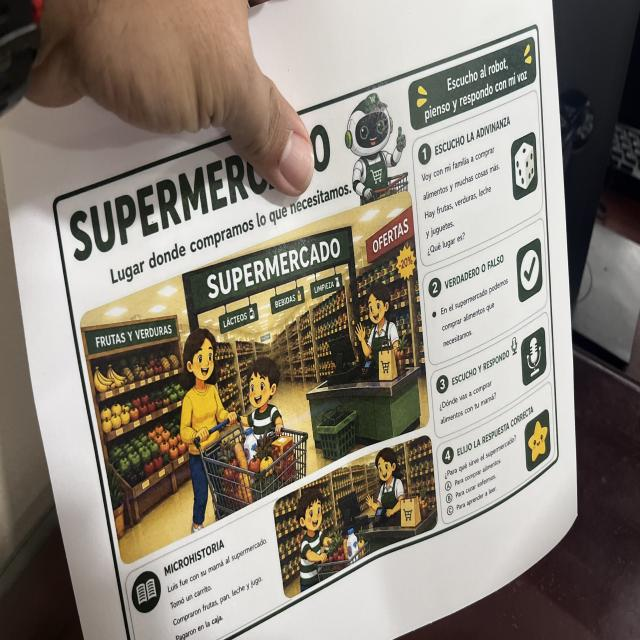supermercado: (49, 17, 563, 640)
